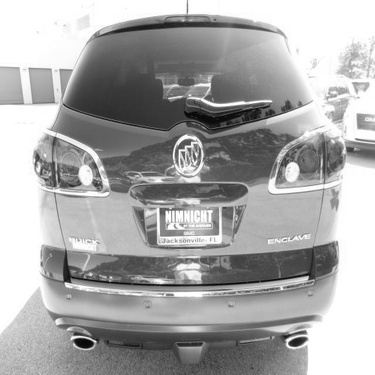car: (18, 7, 349, 366), (296, 65, 358, 132), (346, 72, 372, 159)
